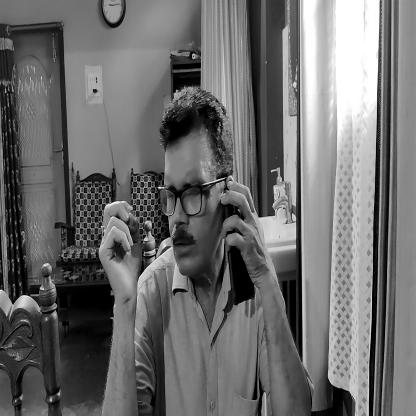Distracted: (159, 93, 231, 285)
